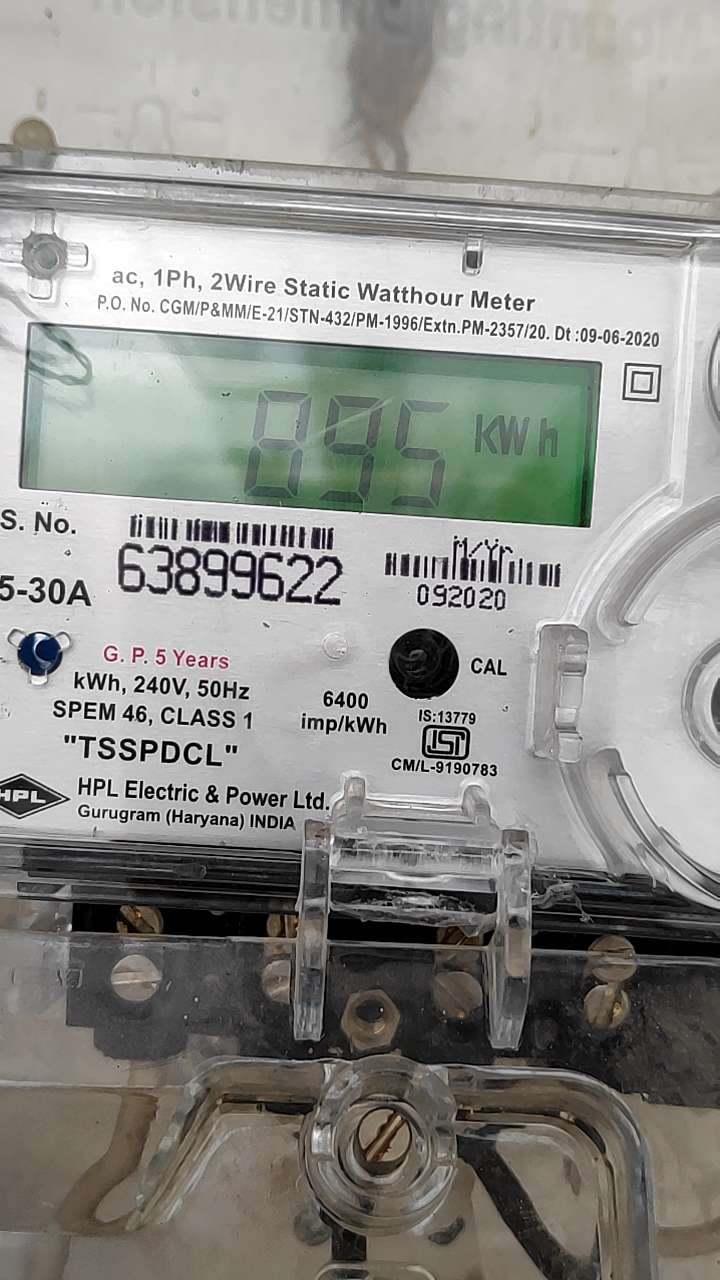meter_serial_number: (106, 540, 353, 610)
